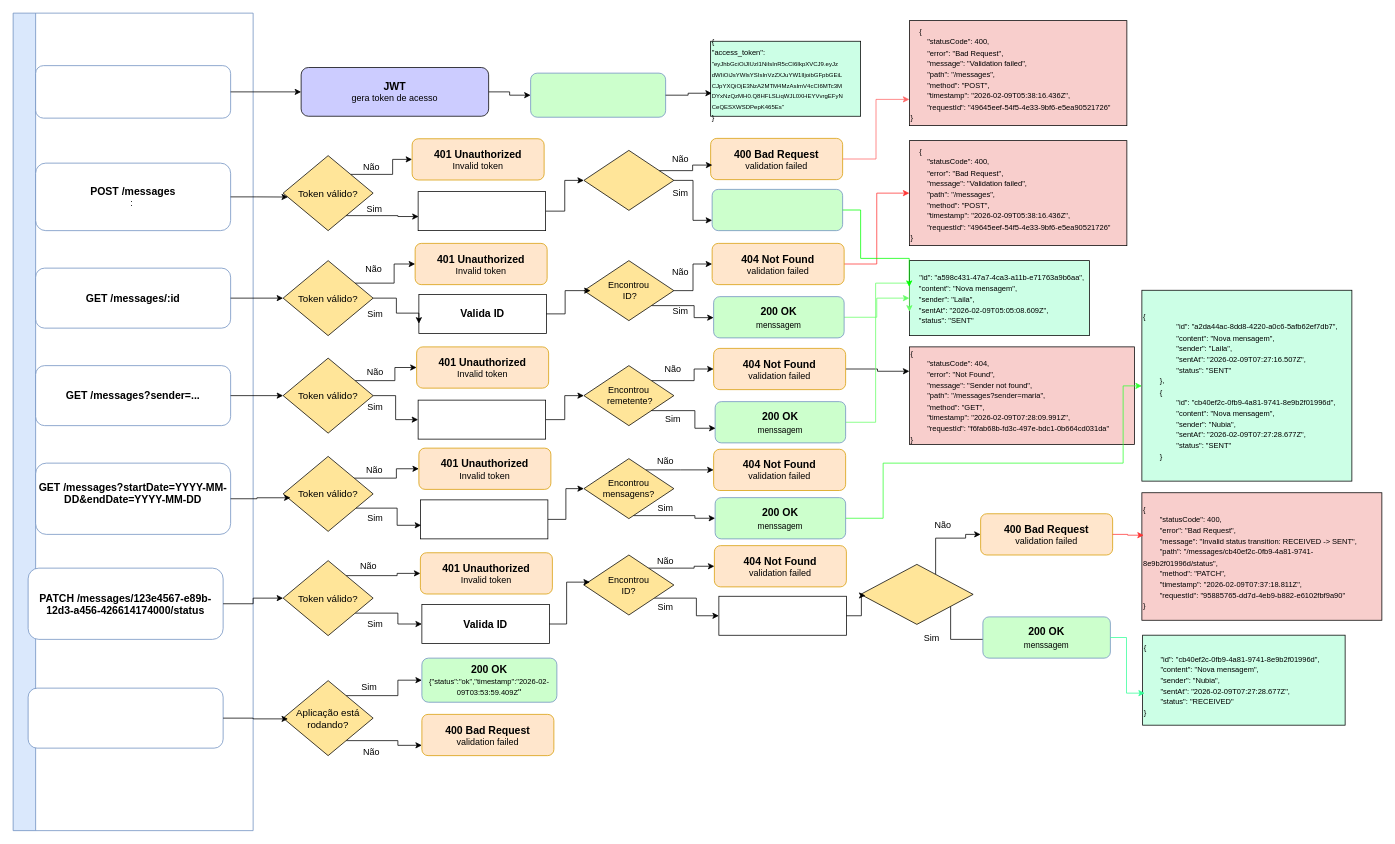
This 1395x844 diagram has some shape labels left out. The shapes that lost their labels are listed below. From the top down, each one's box as (x1, y1, x2, y2) in pixels, then its label:
(35, 65, 231, 118): POST /auth/login {username,password}
(530, 72, 666, 117): 200 OK {access_token}
(583, 150, 674, 210): Mensagem valida?
(417, 191, 546, 231): Valida DTO
(711, 189, 843, 231): 201 Created menssagem
(12, 12, 253, 831): CLIENTE (Web/Mobile/Postman)
(417, 399, 546, 439): Valida remetente
(420, 499, 548, 539): Valida periodo
(860, 564, 973, 624): Alteração de status é válida?
(718, 596, 846, 635): Valida Status SENT → RECEIVED → READ
(27, 687, 223, 748): GET /heath
